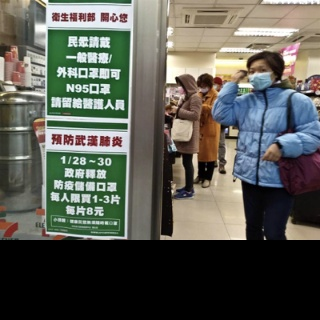with_mask: (248, 64, 273, 92), (197, 84, 211, 94), (176, 83, 184, 95), (212, 82, 219, 91)
